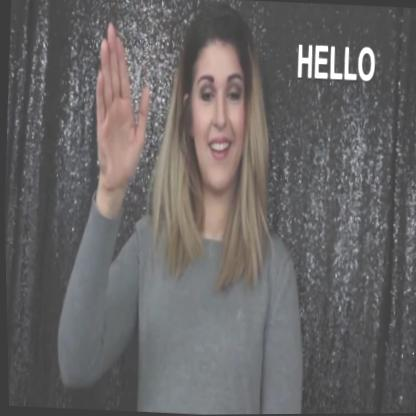Hello: (84, 1, 266, 226)
